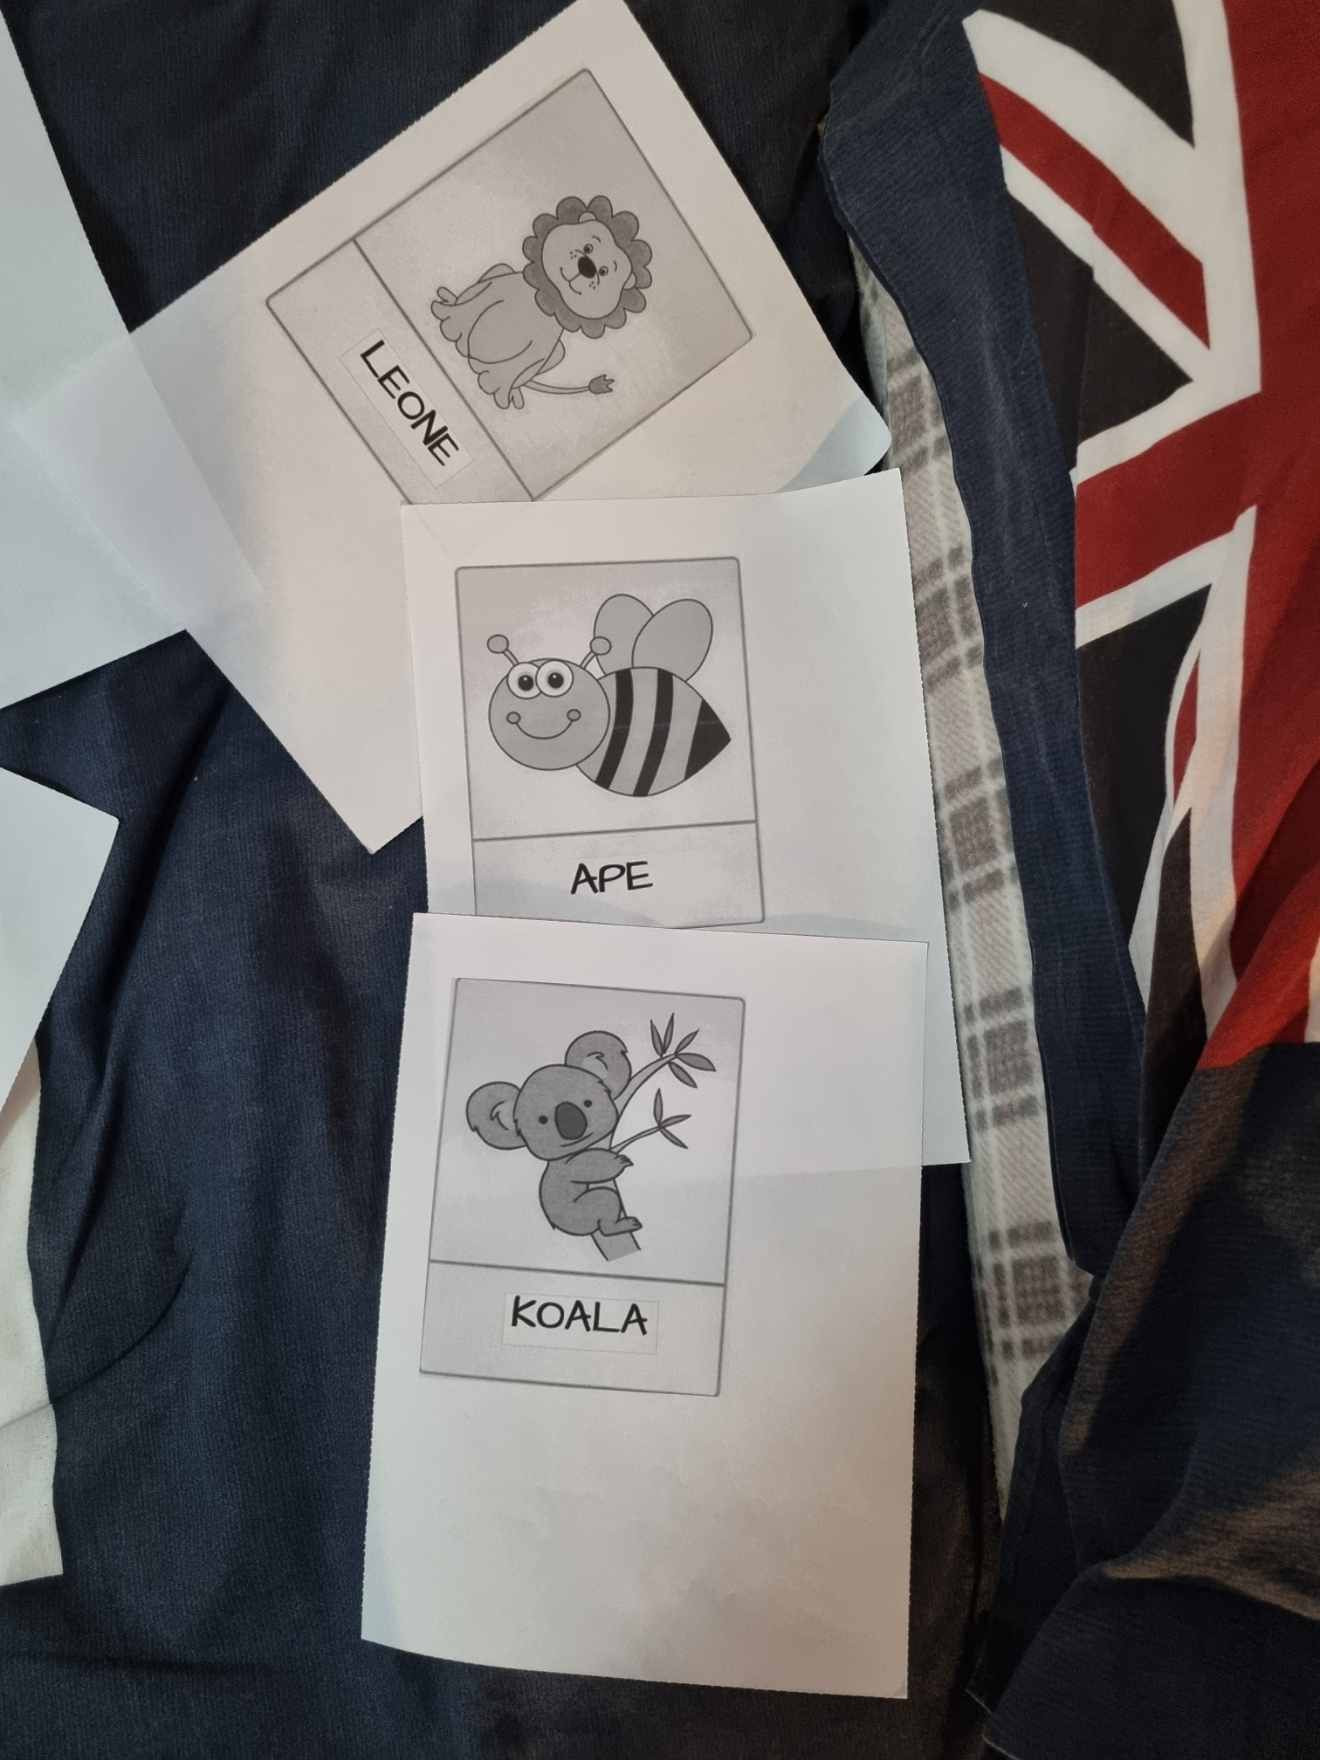ape: (465, 561, 762, 924)
koala: (449, 978, 730, 1372)
leone: (330, 189, 699, 474)
